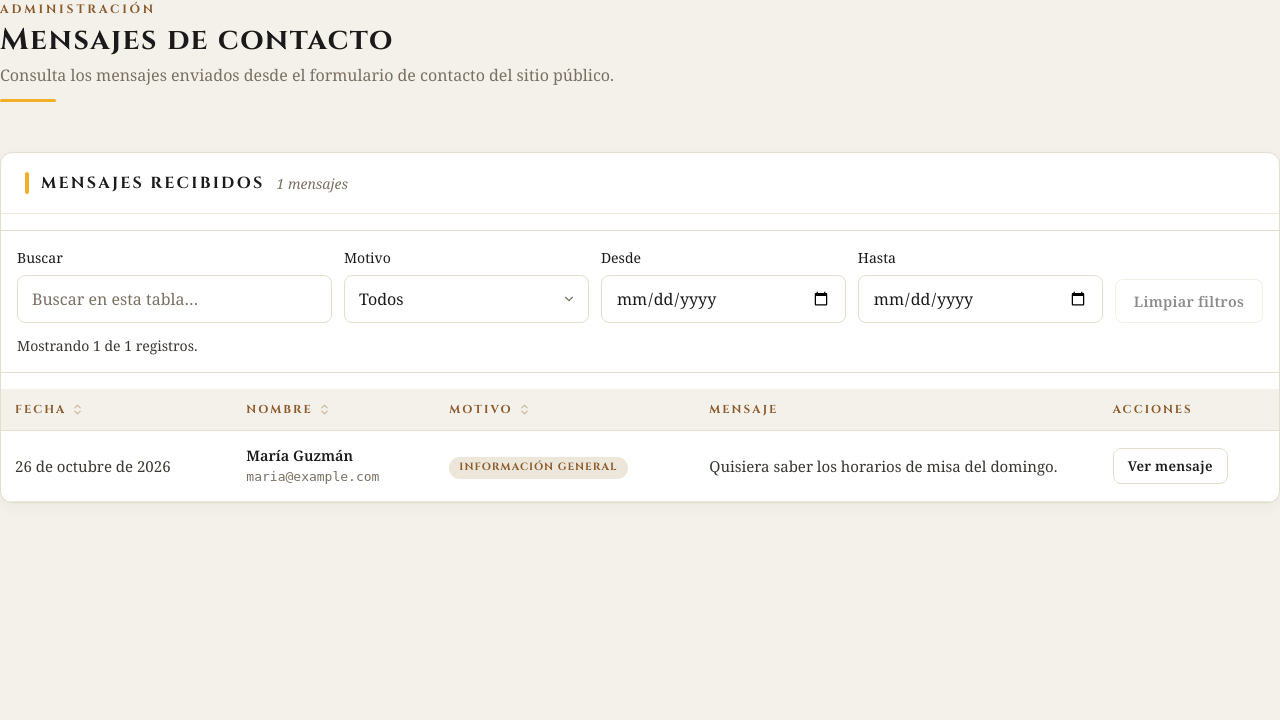
Test case: MensajesContactoPage › lista los mensajes para el rol 1 y abre el detalle
The image size is (1280, 720).
Check: the text "María Guzmán" is shown, box [246,445,353,465]
Click the button "Ver mensaje": (1170, 466) [1113,448,1228,484]
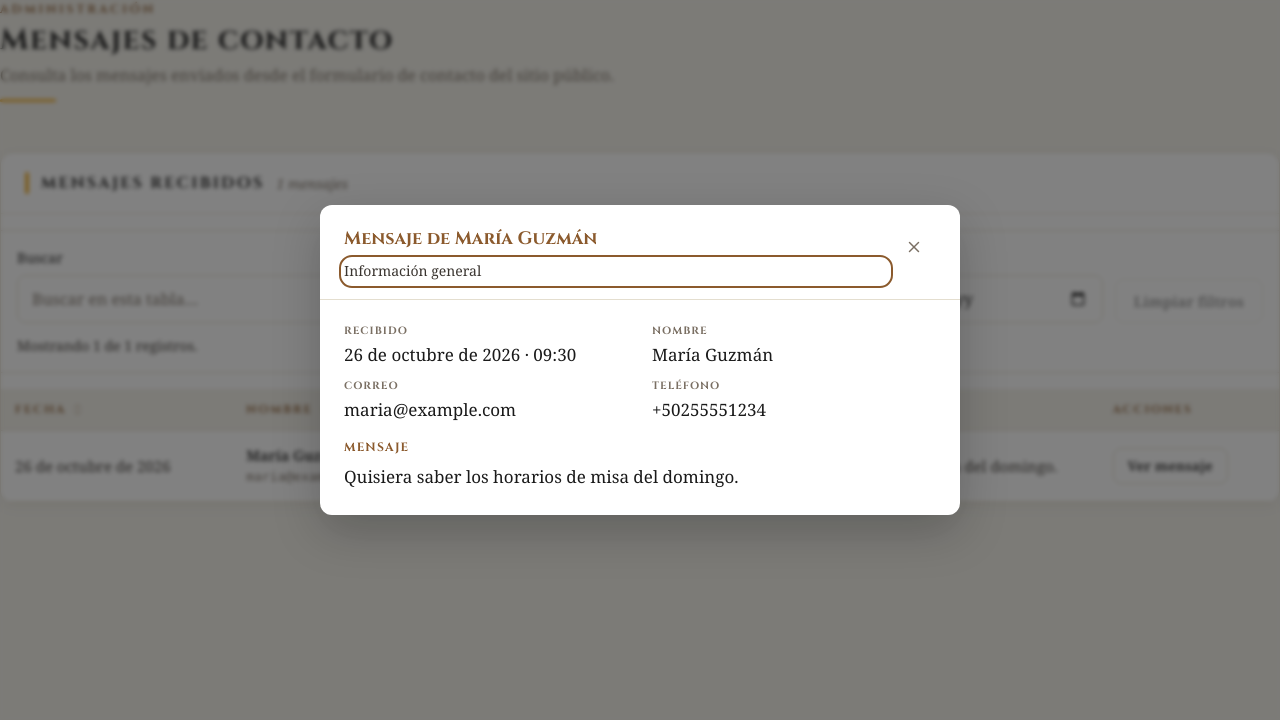
Check: the text "Quisiera saber los horarios de misa del domingo." is shown, box [344,465,738,488]
Check: the text "+50255551234" is shown, box [652,398,766,421]
